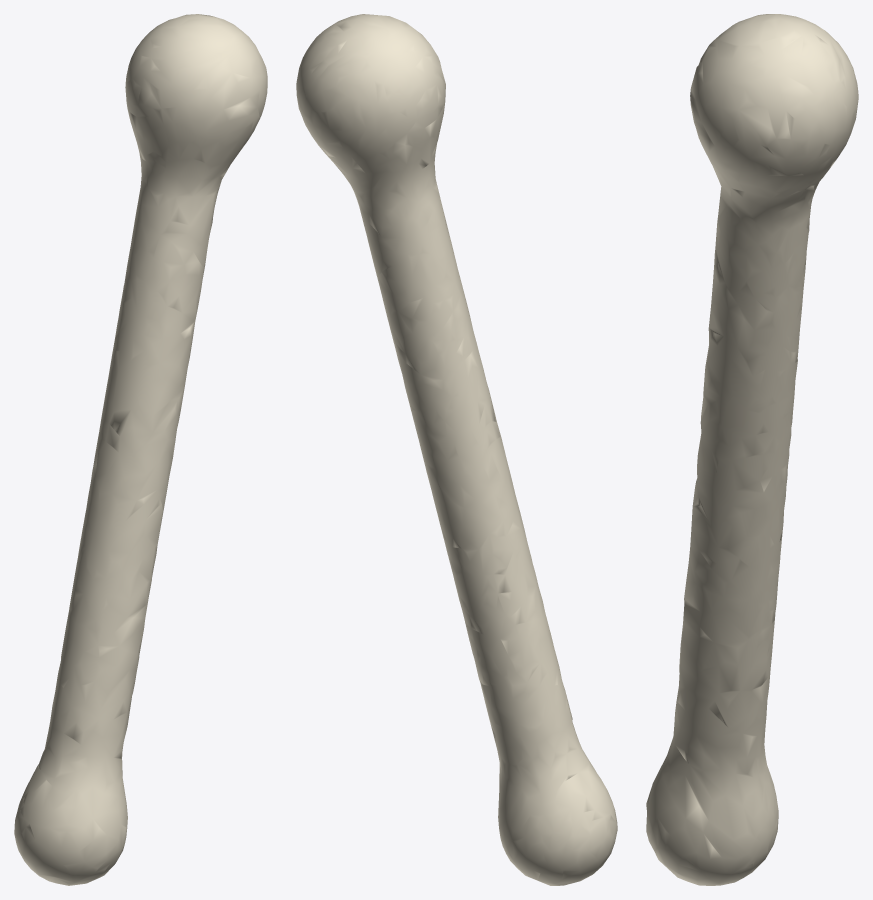
The model's file is ulna_r.glb.
3 views of the same model, side by side, from view 1: azimuth 30°, elevation 25°; view 2: azimuth 150°, elevation 25°; view 3: azimuth 270°, elevation 25° (orthographic). The views are drawn at different scales.
Visible parts, largest first — view 1: geometry_0; view 2: geometry_0; view 3: geometry_0.
Part boxes in pixels (bbox=[...]): geometry_0: bbox=[14, 14, 267, 885]; geometry_0: bbox=[296, 14, 617, 885]; geometry_0: bbox=[646, 14, 858, 885].
Bounding box in the file's own units: 0.2849 × 0.8292 × 0.169.
